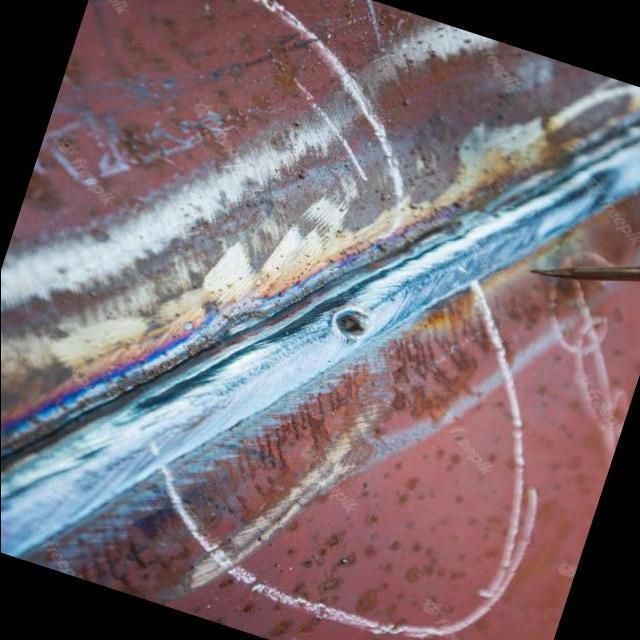defect: (330, 308, 369, 341)
